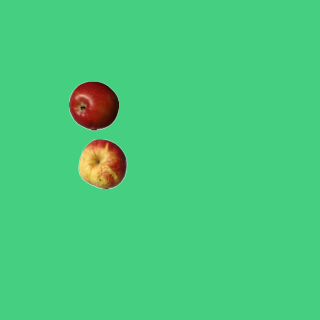Apple Braeburn: (68, 80, 118, 130)
Apple Red Yellow 1: (77, 138, 127, 188)
